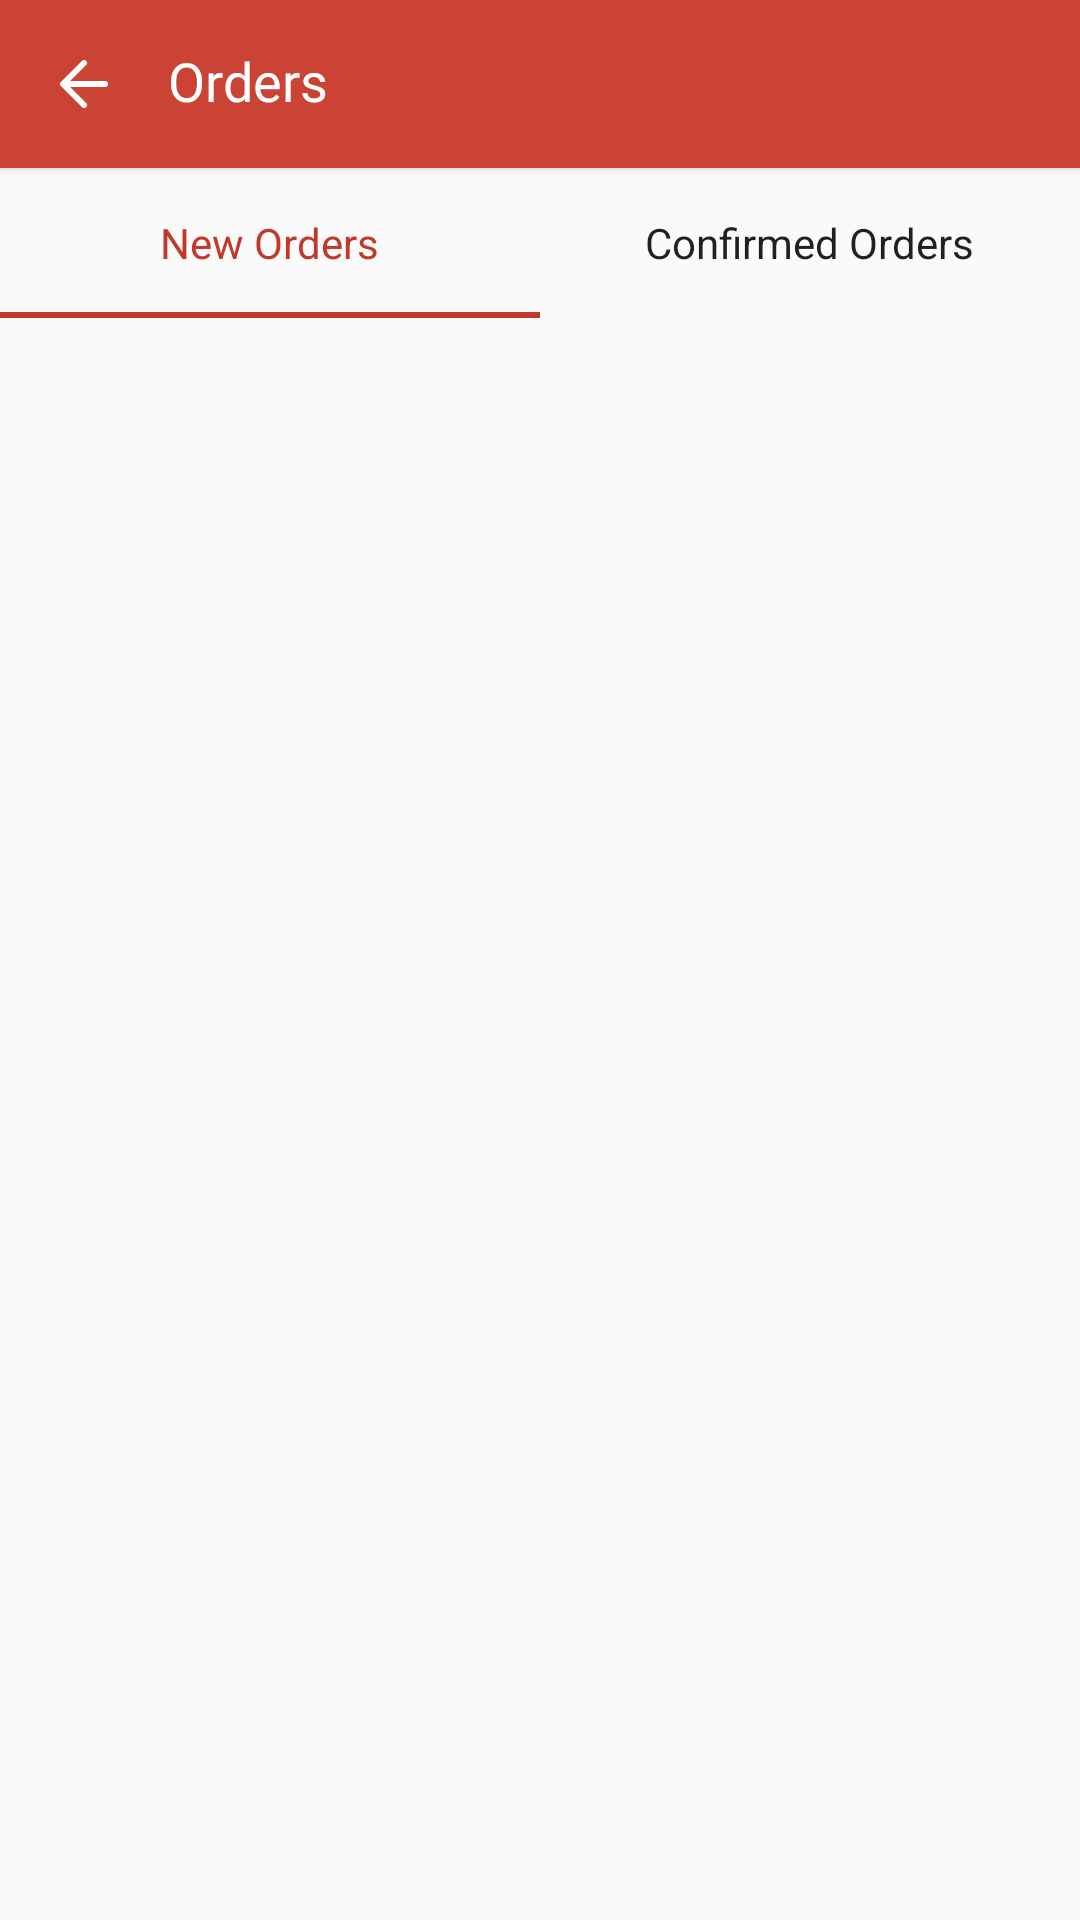

Point at icon controls on the screen. Image size 1080*1920, points as (x=x, y=y).
arrow left: (x=84, y=84)
